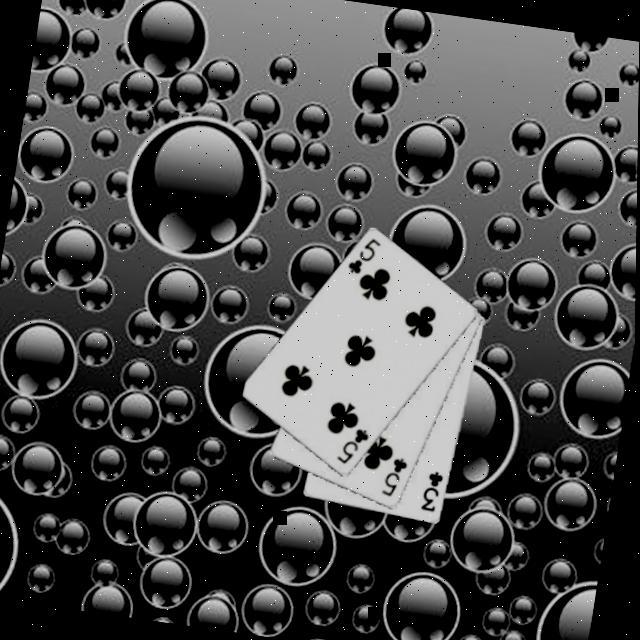3C: (418, 466, 448, 515)
5C: (343, 231, 385, 279), (333, 422, 374, 469), (378, 452, 412, 501)
